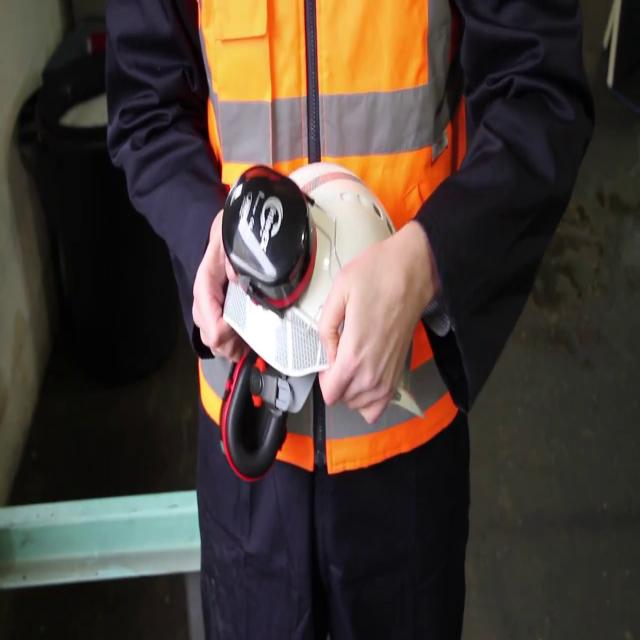earmuff: (220, 160, 319, 313), (217, 343, 292, 491)
helmet: (218, 159, 428, 424)
